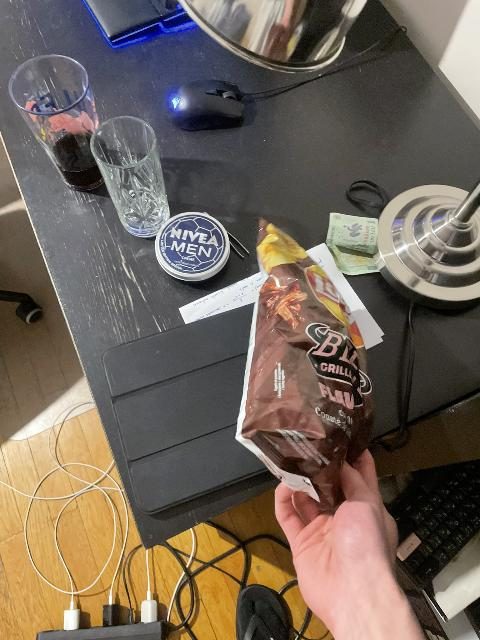Lays Beef Grilled Ribs 125g: (236, 218, 371, 498)
